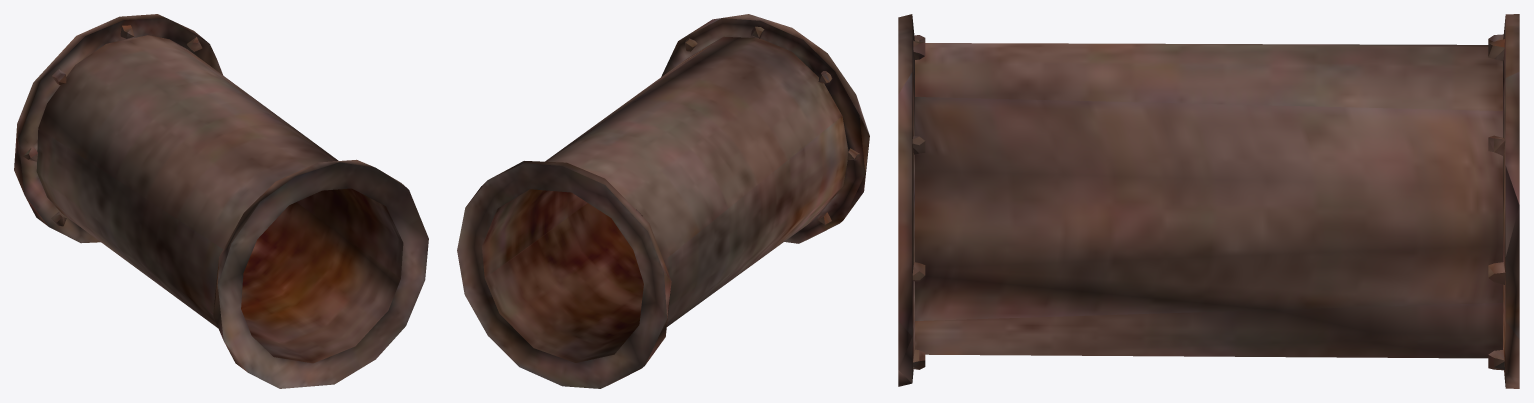
The model's file is rusty_pipe_20.glb.
The picture shows the model from 3 angles, left to right: view 1: azimuth 30°, elevation 25°; view 2: azimuth 150°, elevation 25°; view 3: azimuth 270°, elevation 25°; orthographic projection. The views are drawn at different scales.
Visible parts, largest first — view 1: rusty_pipe_20; view 2: rusty_pipe_20; view 3: rusty_pipe_20.
Part boxes in pixels (x1,y1,x2,y2): rusty_pipe_20: (14,14,428,388); rusty_pipe_20: (457,14,869,388); rusty_pipe_20: (898,14,1519,388).
Size of what is drawn, in the model's own units: 0.0286 by 0.0287 by 0.0478.
1 material, 1 textured.
